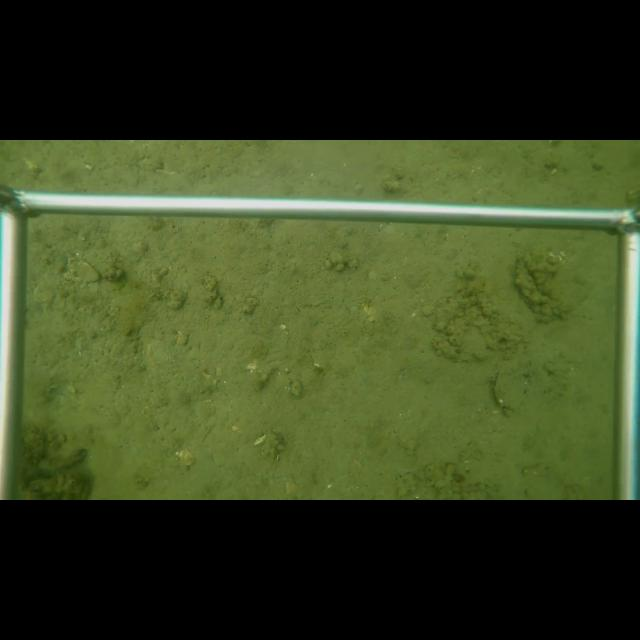Oyster-Closed: (493, 366, 530, 411)
